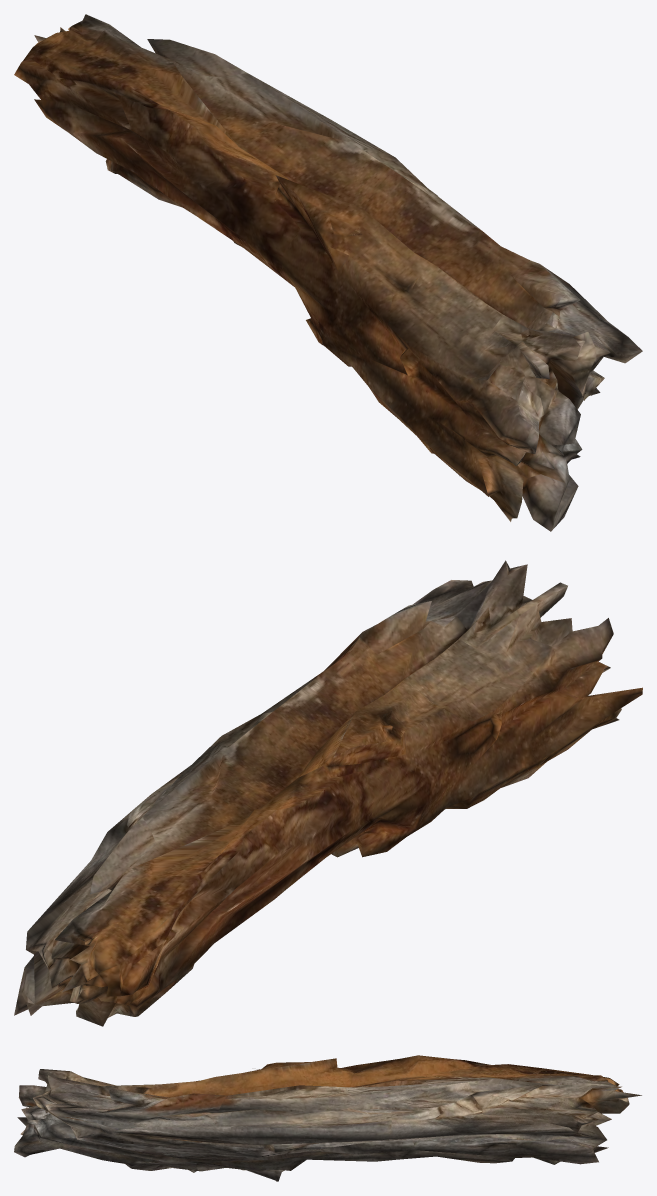
File: bark_debris_01_d_LOD1.glb
3 views of the same model, one above another, from view 1: azimuth 30°, elevation 25°; view 2: azimuth 150°, elevation 25°; view 3: azimuth 270°, elevation 25° (orthographic). The views are drawn at different scales.
Visible parts, largest first — view 1: bark_debris_01_d_LOD1__lodS; view 2: bark_debris_01_d_LOD1__lodS; view 3: bark_debris_01_d_LOD1__lodS.
Boxes of the visible parts, x1,y1,x2,y2 form: bark_debris_01_d_LOD1__lodS: [14, 14, 642, 531]; bark_debris_01_d_LOD1__lodS: [14, 560, 642, 1026]; bark_debris_01_d_LOD1__lodS: [14, 1055, 641, 1181].
Size of what is drawn, in the model's own units: 0.135 by 0.1061 by 0.6038.
1 material, 1 textured.
